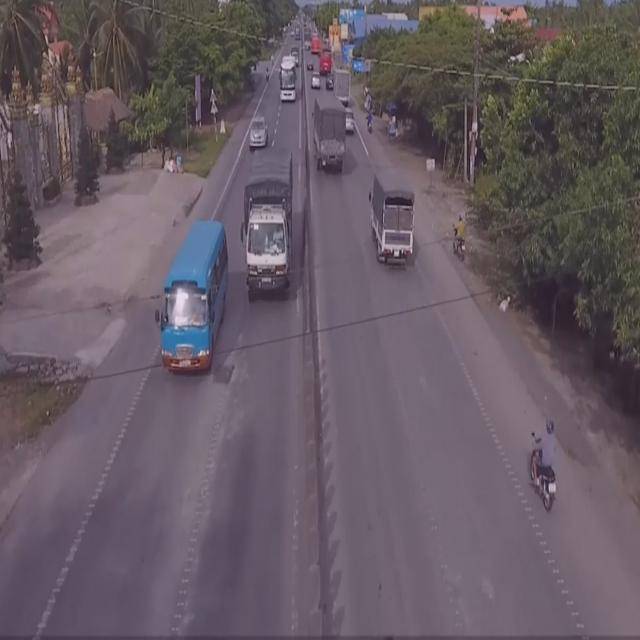bus: (156, 222, 228, 379), (278, 55, 298, 103)
car: (250, 112, 272, 151)
motorbike: (522, 411, 567, 521), (449, 216, 466, 270)
truck: (243, 149, 295, 299), (367, 173, 421, 282), (312, 94, 348, 175)
